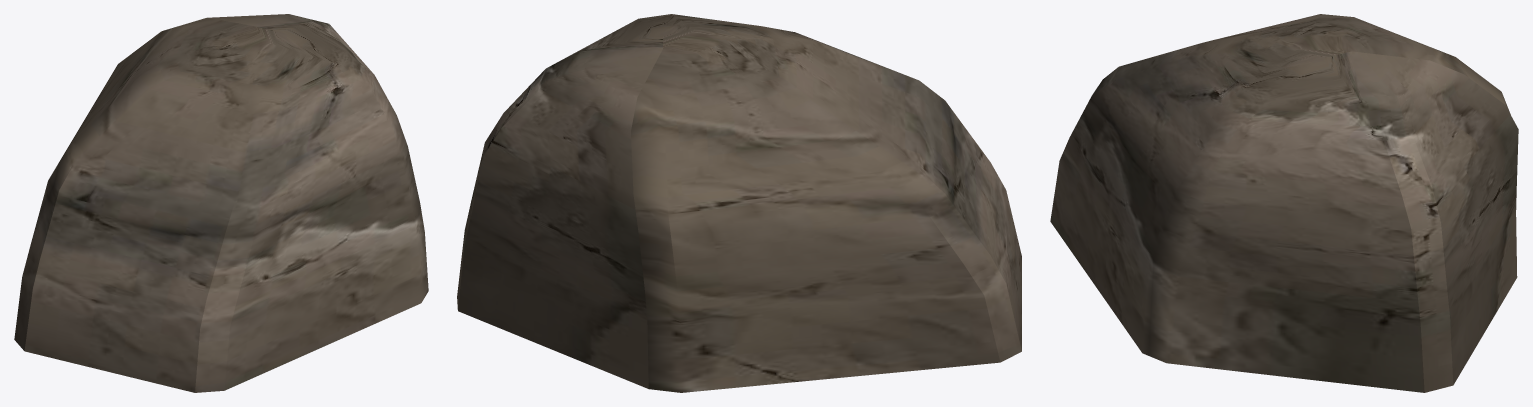
File: Rock Large.fbx
The picture shows the model from 3 angles, left to right: view 1: azimuth 30°, elevation 25°; view 2: azimuth 150°, elevation 25°; view 3: azimuth 270°, elevation 25°; orthographic projection. The views are drawn at different scales.
Parts seen in each view (by area): view 1: pSphere1; view 2: pSphere1; view 3: pSphere1.
Part boxes in pixels (x1,y1,x2,y2): pSphere1: [14, 14, 428, 392]; pSphere1: [457, 14, 1021, 392]; pSphere1: [1050, 14, 1518, 392].
Bounding box in the file's own units: 225 × 117 × 192.
Materials: 1 (1 with a texture image).
